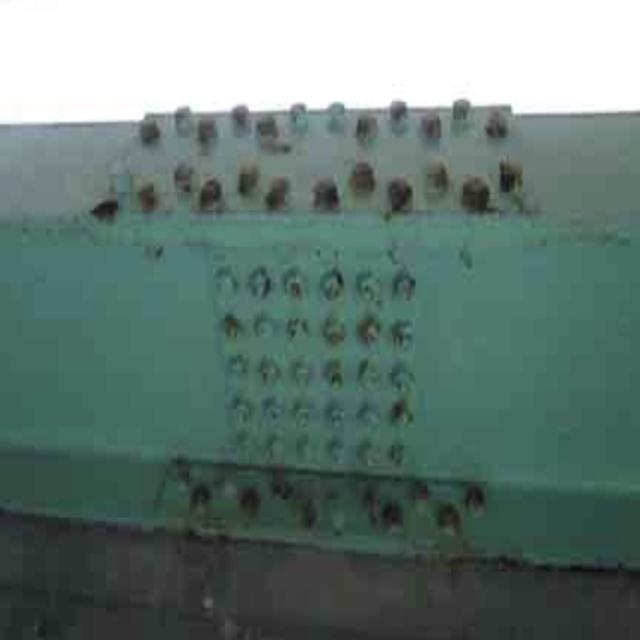corrosion: (173, 284, 498, 556), (106, 107, 550, 239)
